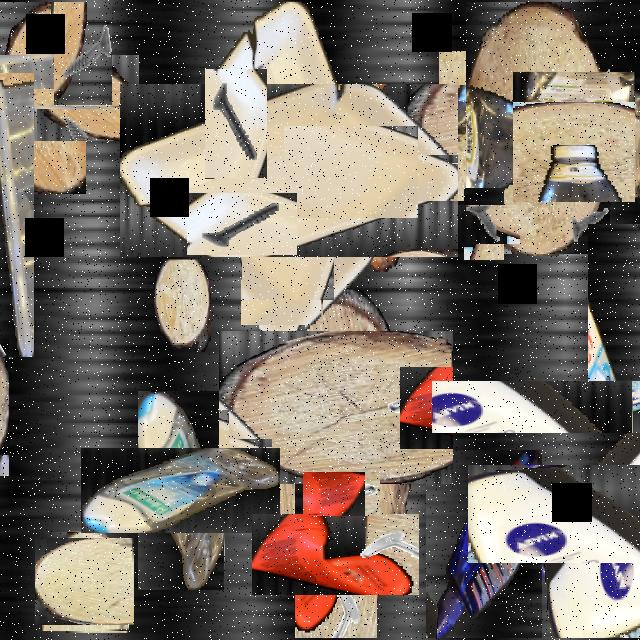glass: (422, 68, 540, 184), (587, 373, 640, 444)
metal: (205, 70, 267, 180), (54, 2, 112, 105), (250, 270, 314, 334), (310, 464, 372, 524), (456, 196, 512, 252)
plastic: (161, 42, 417, 298), (509, 302, 640, 511), (426, 450, 556, 638), (504, 427, 640, 600), (110, 419, 252, 562), (511, 74, 638, 200), (274, 492, 398, 617), (0, 73, 34, 357)
wood: (239, 310, 433, 504), (466, 2, 610, 254), (0, 28, 112, 167), (242, 166, 334, 300), (38, 535, 132, 628), (154, 260, 210, 352), (347, 195, 413, 260), (0, 338, 9, 476)
